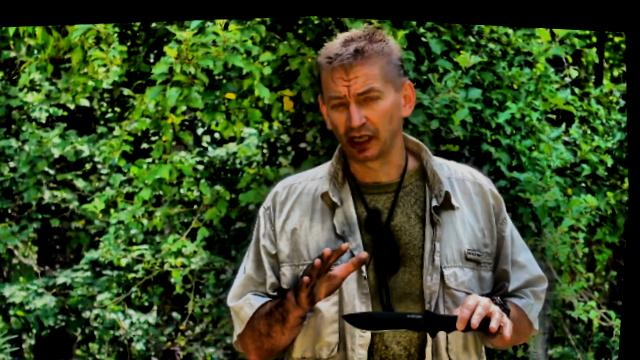knife: (339, 279, 524, 355)
